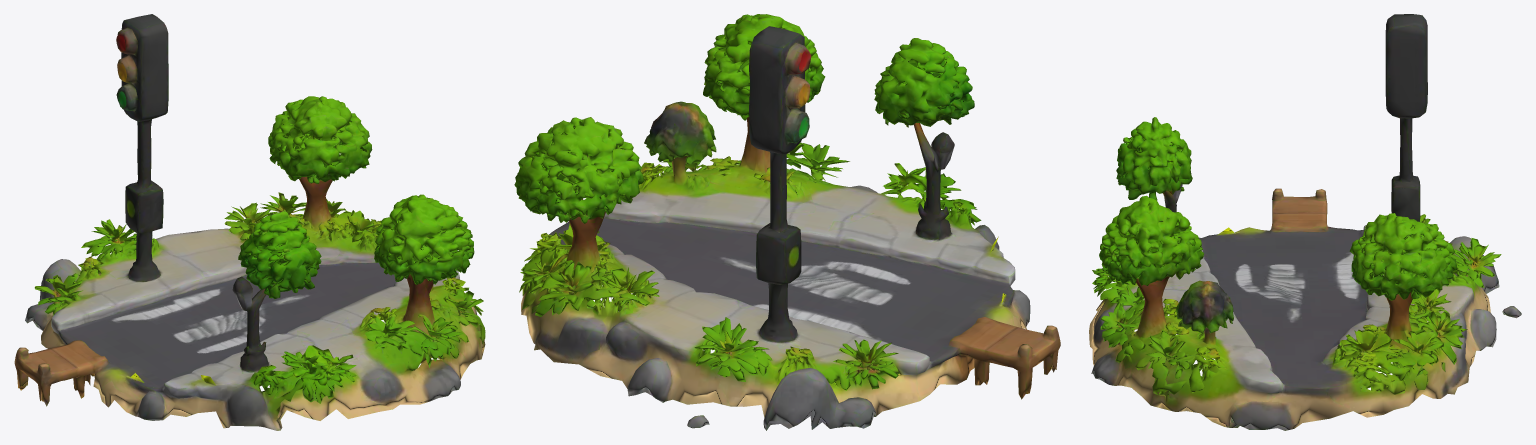
Rendered from isl-14.glb.
3 renders of one model, left to right at view 1: azimuth 30°, elevation 25°; view 2: azimuth 150°, elevation 25°; view 3: azimuth 270°, elevation 25°, orthographic. The views are drawn at different scales.
Visible parts, largest first — view 1: world; view 2: world; view 3: world.
Boxes of the visible parts, bbox=[...] form: world: bbox=[14, 14, 485, 430]; world: bbox=[514, 14, 1060, 430]; world: bbox=[1089, 14, 1521, 430].
Bounding box in the file's own units: 0.9627 × 0.6513 × 0.8674.
1 material, 1 textured.
